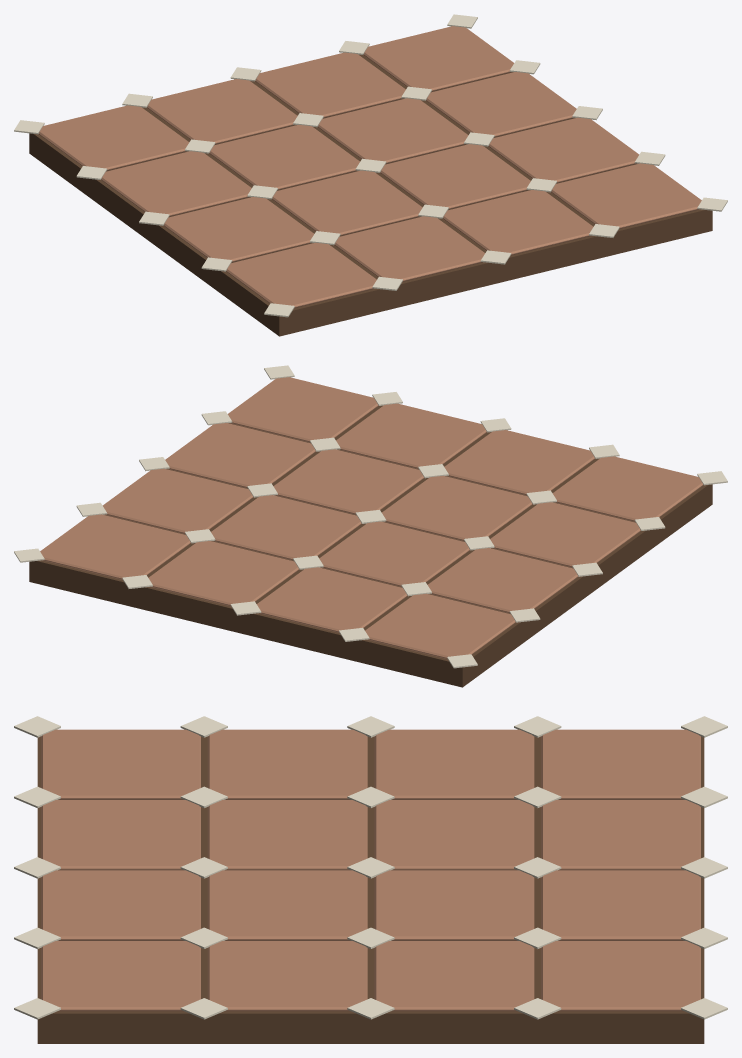
File: floor_hm_terra.glb
The picture shows the model from 3 angles, top to bottom: view 1: azimuth 30°, elevation 25°; view 2: azimuth 150°, elevation 25°; view 3: azimuth 270°, elevation 25°; orthographic projection. The views are drawn at different scales.
Visible parts, largest first — view 1: floor_hm_terra; view 2: floor_hm_terra; view 3: floor_hm_terra.
Boxes of the visible parts, left/top/right/bottom form: floor_hm_terra: left=14, top=14, right=727, bottom=336; floor_hm_terra: left=14, top=365, right=727, bottom=687; floor_hm_terra: left=14, top=716, right=727, bottom=1043.
Size of the model in its own units: 4.28 by 0.238 by 4.28.
